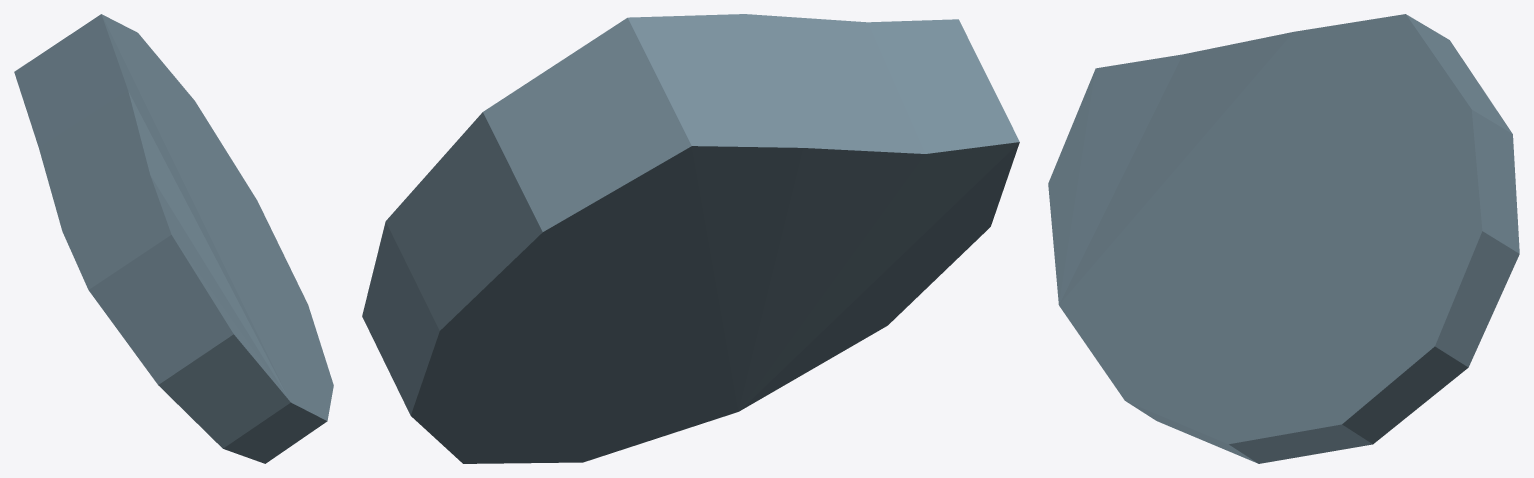
File: astronaut_spawn_group2060591166_lev4.glb
The picture shows the model from 3 angles, left to right: view 1: azimuth 30°, elevation 25°; view 2: azimuth 150°, elevation 25°; view 3: azimuth 270°, elevation 25°; orthographic projection. The views are drawn at different scales.
Parts seen in each view (by area): view 1: astronaut_spawn_group2060591166_lev4; view 2: astronaut_spawn_group2060591166_lev4; view 3: astronaut_spawn_group2060591166_lev4.
Part boxes in pixels (bbox=[...]): astronaut_spawn_group2060591166_lev4: bbox=[14, 14, 333, 463]; astronaut_spawn_group2060591166_lev4: bbox=[362, 14, 1019, 463]; astronaut_spawn_group2060591166_lev4: bbox=[1048, 14, 1519, 463].
Size of the model in its own units: 0.1422 by 0.1645 by 0.1764.
